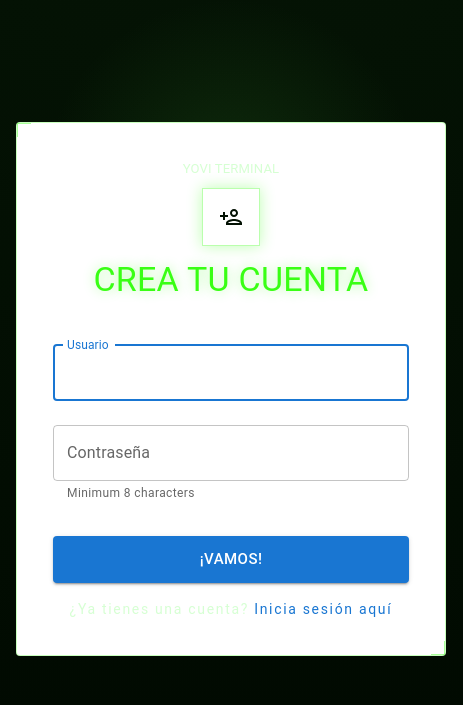
RegisterForm › shows validation error when username is empty
The image size is (463, 705).
Click the button "¡Vamos!". click: [231, 559]
box: x1=53 y1=536 x2=409 y2=583
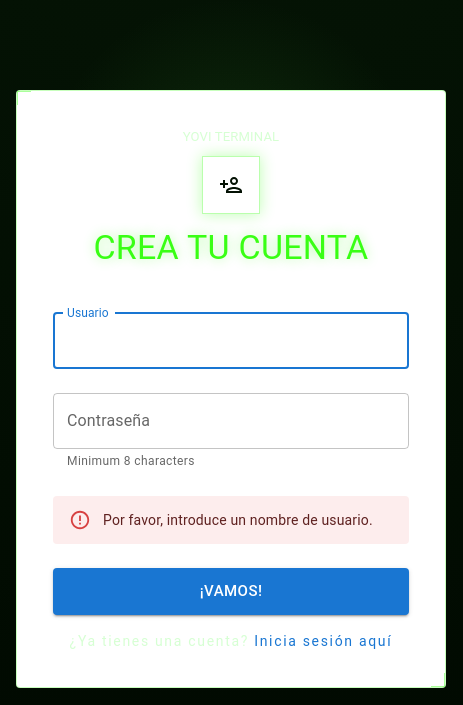
expect the text "Por favor, introduce un nombre de usuario." is shown: met, box x1=103 y1=512 x2=373 y2=528
